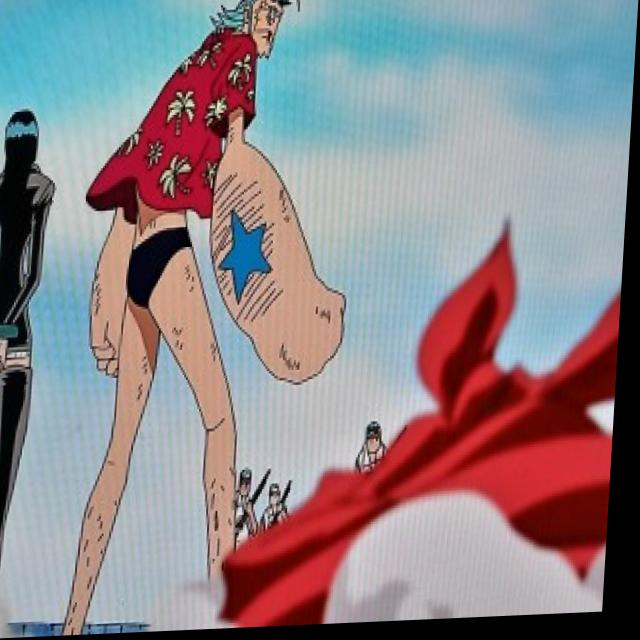Franky: (208, 0, 299, 75)
NicoRobin: (0, 96, 57, 180)
